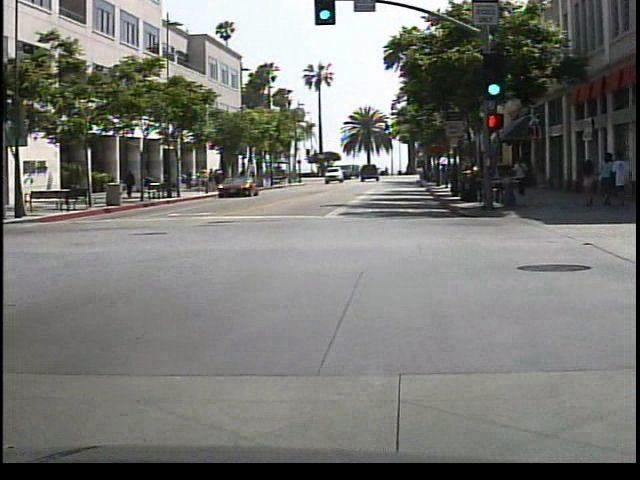person: (511, 153, 532, 202), (124, 168, 138, 202)
